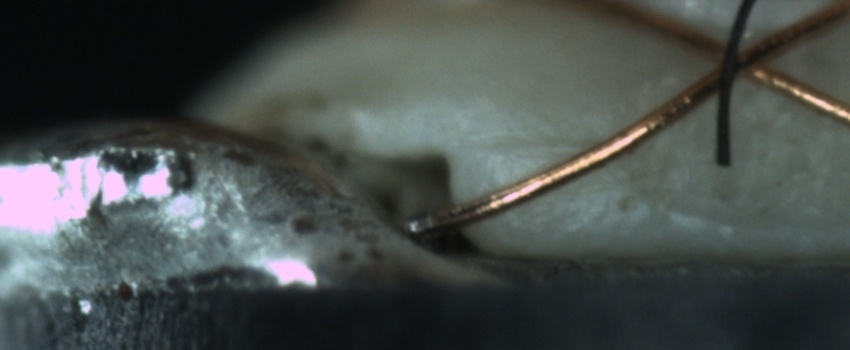CL: (701, 28, 789, 92)
DL: (485, 117, 612, 178)
TS: (403, 211, 435, 236)
